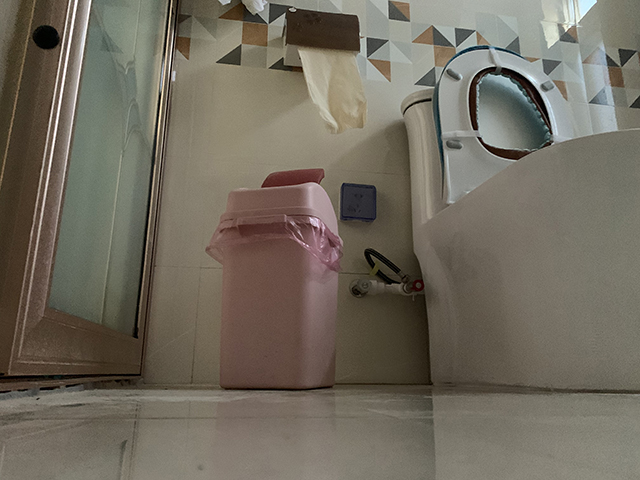closestool: (399, 44, 640, 393)
trashcan: (217, 168, 344, 390)
